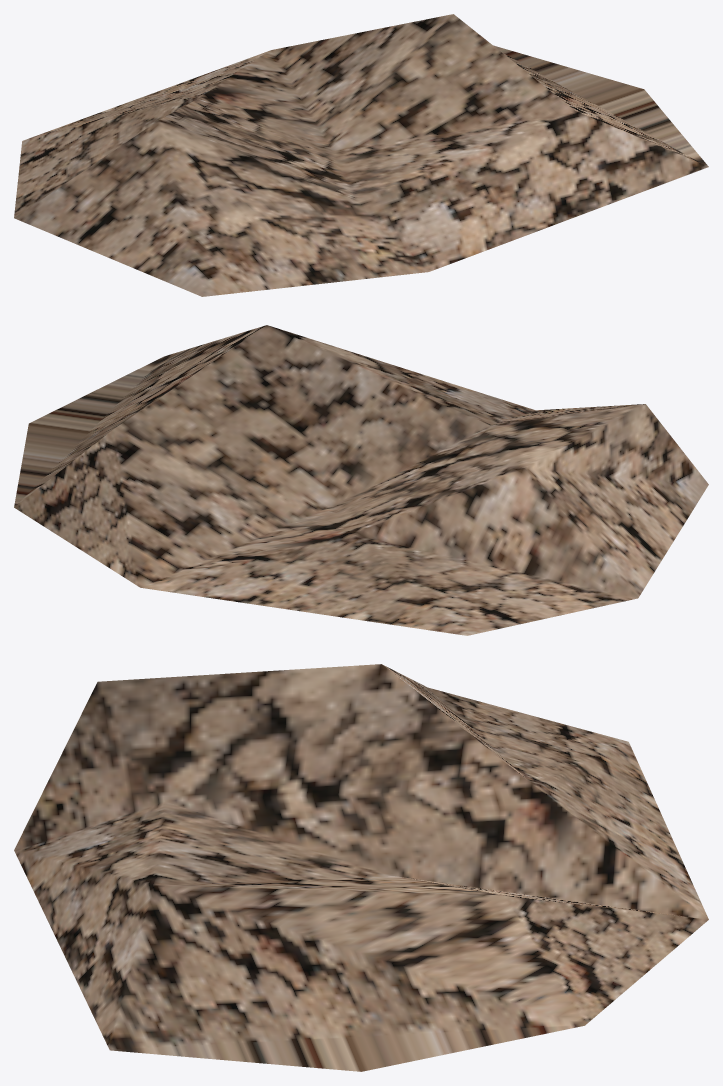
File: dugdirt_2.fbx
3 views of the same model, one above another, from view 1: azimuth 30°, elevation 25°; view 2: azimuth 150°, elevation 25°; view 3: azimuth 270°, elevation 25° (orthographic). The views are drawn at different scales.
Parts seen in each view (by area): view 1: Gravel_01; view 2: Gravel_01; view 3: Gravel_01.
Boxes of the visible parts, bbox=[...] form: Gravel_01: bbox=[14, 14, 708, 296]; Gravel_01: bbox=[14, 325, 708, 635]; Gravel_01: bbox=[14, 664, 708, 1071].
Bounding box in the file's own units: 156 × 19.59 × 119.
1 material, 1 textured.
